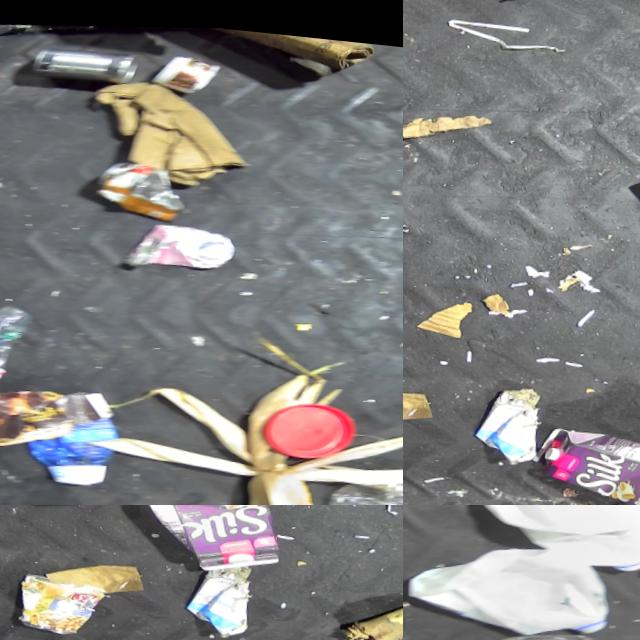can: (121, 208, 245, 274), (91, 149, 193, 223), (25, 563, 121, 638), (24, 34, 145, 90)
milk_jug: (405, 521, 625, 640), (472, 505, 640, 581)
non_white_jug: (136, 505, 297, 575), (532, 401, 640, 505), (29, 405, 132, 489)
plastic_bottle: (0, 288, 49, 428), (437, 611, 616, 640), (0, 11, 37, 59)
